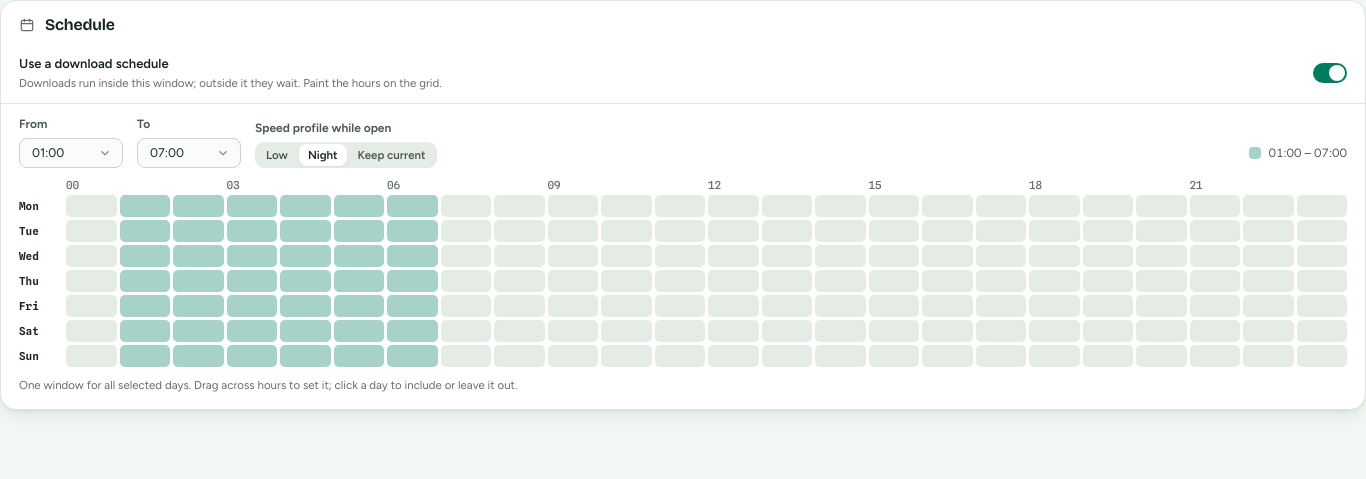
ScheduleCard › edits the window, days and profile from the controls, and Discard undoes it
Expected: the table is shown, [19,178,1347,367]
Select "22:00" in the dropdown labelled "From" at (71, 153), box [20,139,122,167]
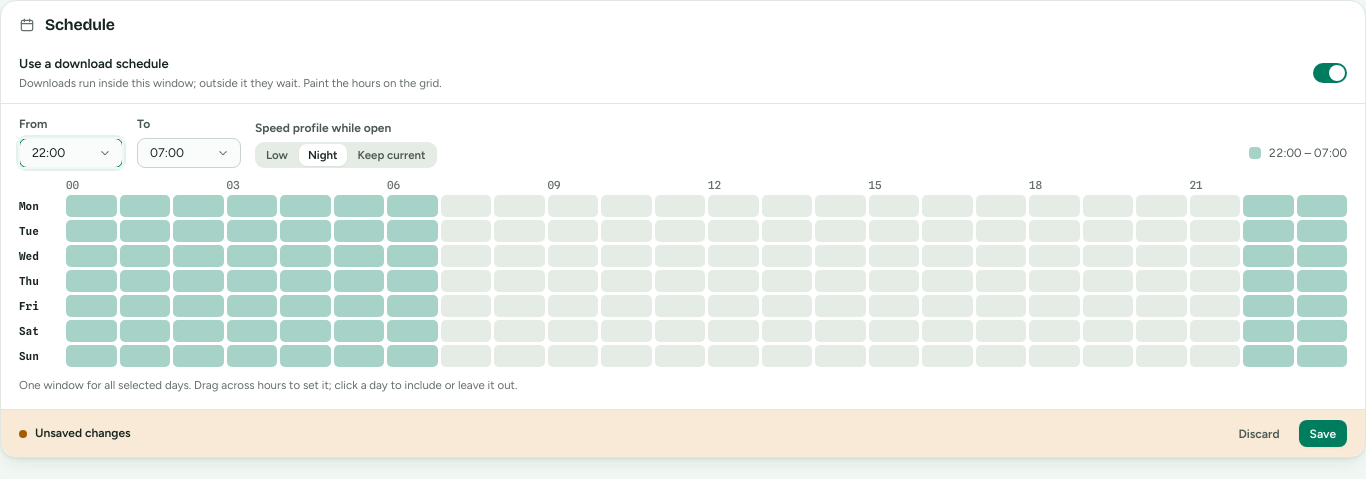
Expected: the text "22:00 – 07:00" is shown, [1249,146,1347,160]
Click the button "Sun".
click(41, 356)  # box [19,345,63,367]
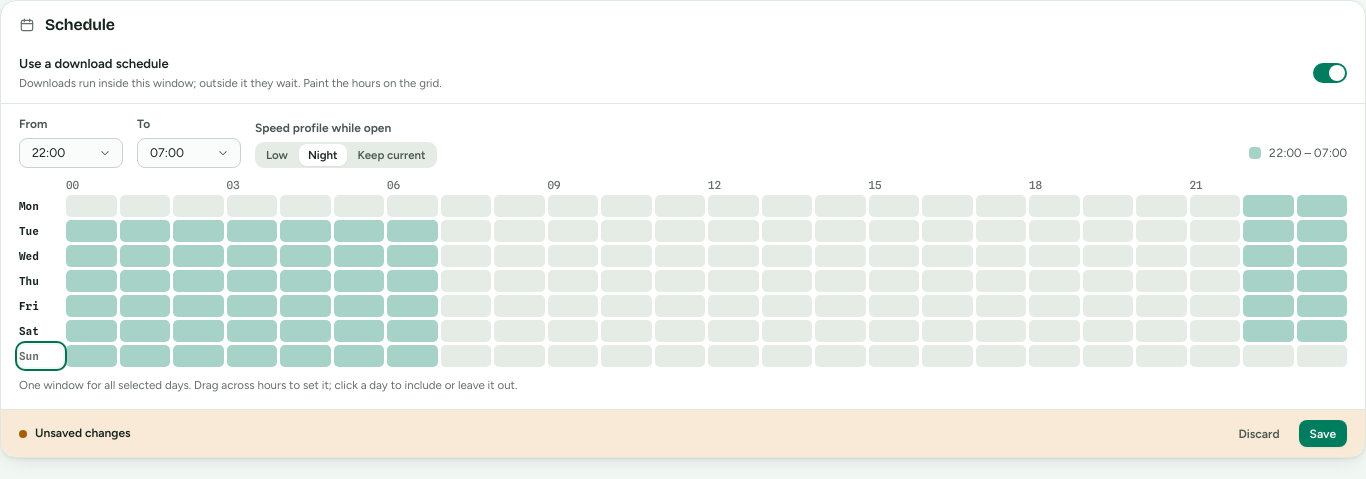
Expected: the button "Sun" is not pressed, [19,345,63,367]
Click the radio button labelled "Keep current".
click(392, 155)  # box [349,144,434,166]
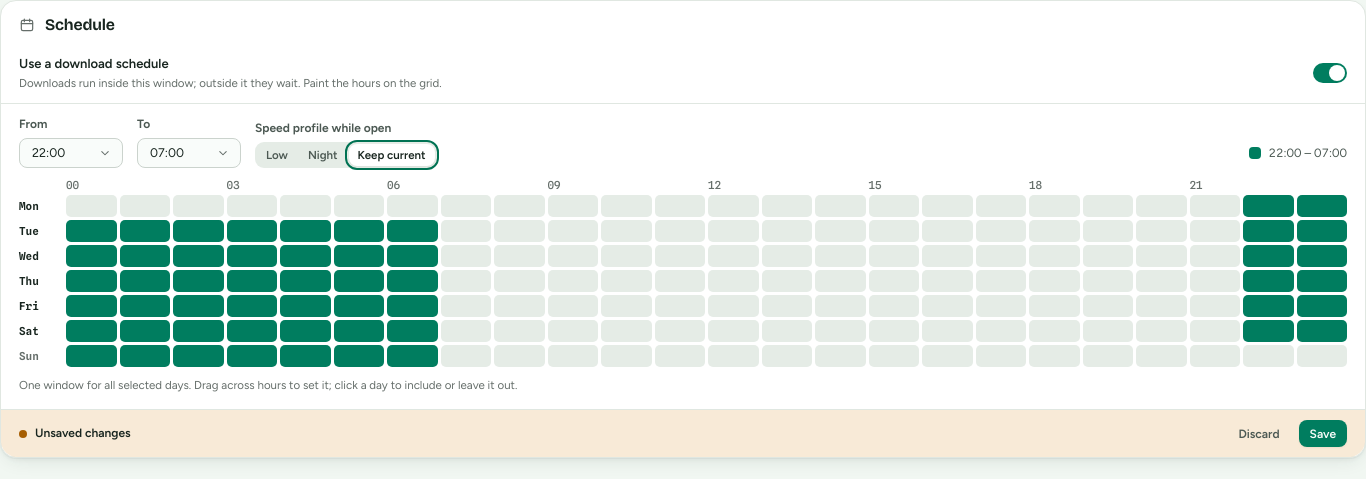
Expected: the radio button labelled "Keep current" is checked, [349,144,434,166]
Click the button "Discard".
click(1259, 434)  # box [1227,420,1291,447]
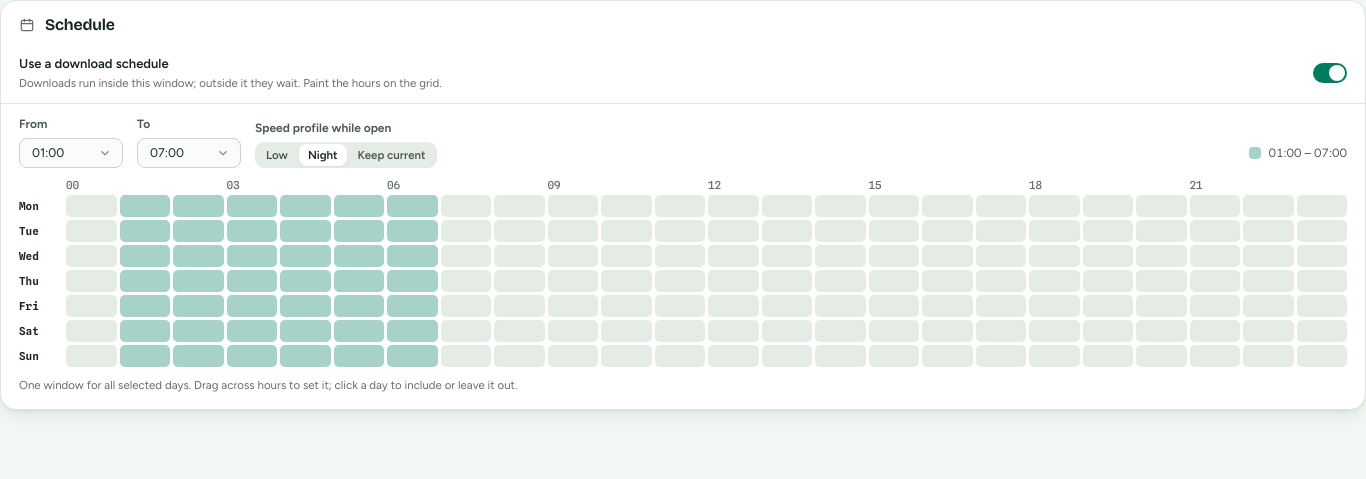
Expected: the text "01:00 – 07:00" is shown, [1249,146,1347,160]
